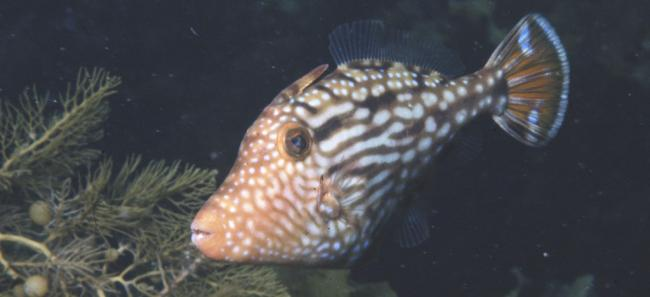fish: (190, 12, 572, 267)
